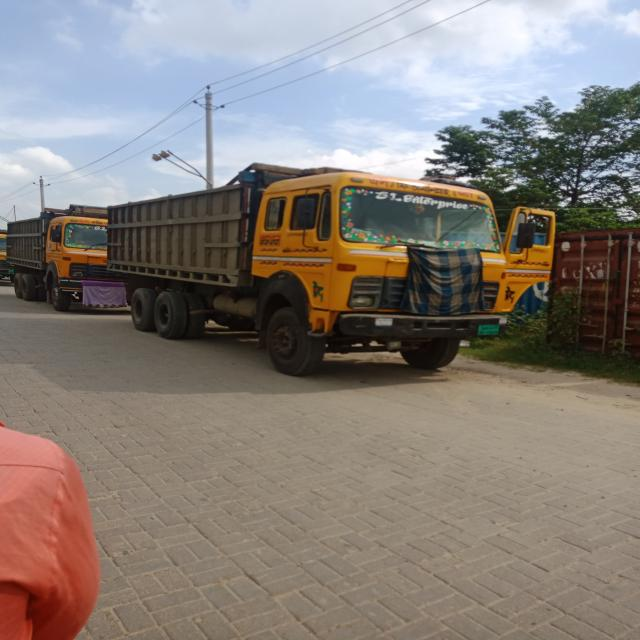truck: (105, 136, 555, 398), (5, 192, 112, 320)
